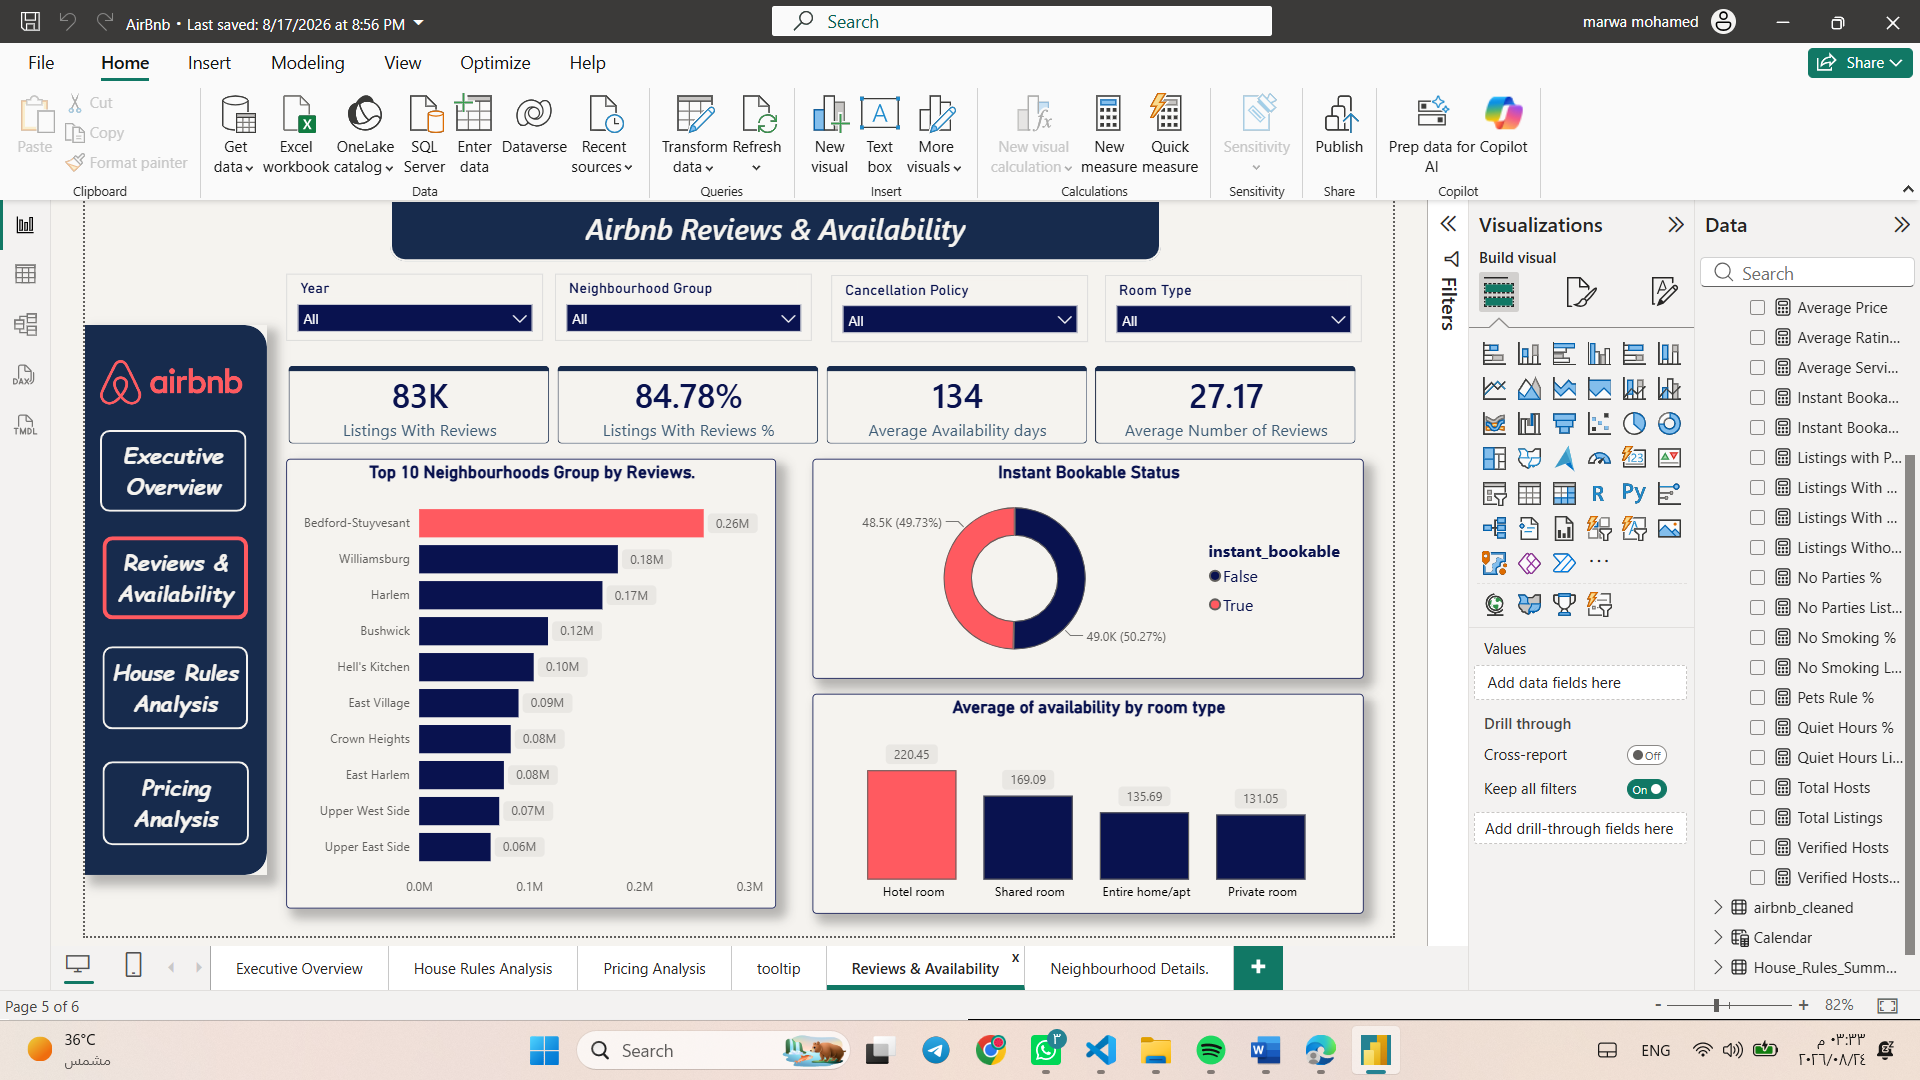

What the dashboard file says about the page in this screenshot:
{"tool":"powerbi","page":{"name":"Reviews & Availability","canvas":[1280,720],"ordinal":4},"visuals":[{"type":"slicer","fields":{"Values":["airbnb_cleaned.room type"]},"box":[998,72.6,251.6,65.8],"z":0,"group":"g2"},{"type":"group","id":"g1","title":"Group 1","box":[0,122.5,178,538],"z":0},{"type":"slicer","fields":{"Values":["airbnb_cleaned.cancellation_policy"]},"box":[730.5,72.6,251.6,65.8],"z":1000,"group":"g2"},{"type":"actionButton","box":[14.9,225.5,143.3,80],"z":1000},{"type":"slicer","fields":{"Values":["airbnb_cleaned.neighbourhood group"]},"box":[460,71.9,251.6,65.8],"z":2000,"group":"g2"},{"type":"actionButton","box":[17.5,548.8,143.3,82.2],"z":2000},{"type":"slicer","fields":{"Values":["Calendar.Year"]},"box":[197.1,71.9,251.6,65.8],"z":3000,"group":"g2"},{"type":"actionButton","box":[17.5,328.8,142.5,81.2],"z":3000},{"type":"actionButton","box":[17.5,436.2,142.5,81.2],"z":4000},{"type":"actionButton","box":[298.6,0,754.3,60],"z":5000},{"type":"shape","box":[0,122.5,178,538],"z":6000,"group":"g1"},{"type":"cardVisual","fields":{"Data":["Measures_table.Listings With Reviews","Measures_table.Listings With Reviews %","Measures_table.Average Availability","Measures_table.Average Number of Reviews"]},"box":[187.5,150,1071.2,100],"z":6000},{"type":"image","box":[14.4,147.5,139.6,63.2],"z":7000,"group":"g1"},{"type":"clusteredBarChart","title":"Top 10 Neighbourhoods Group by Reviews.","fields":{"Category":["airbnb_cleaned.neighbourhood"],"Y":["Sum(airbnb_cleaned.number of reviews)"]},"box":[196.7,252.9,479.3,440.3],"z":7000},{"type":"donutChart","title":"Instant Bookable Status","fields":{"Category":["airbnb_cleaned.instant_bookable"],"Y":["Measures_table.Total Listings"]},"box":[712,252.9,539.5,214.8],"z":8000},{"type":"clusteredColumnChart","title":"Average of availability by room type","fields":{"Category":["airbnb_cleaned.room type"],"Y":["Avg(airbnb_cleaned.availability 365)"]},"box":[712,482.5,539.5,214.8],"z":9000},{"type":"group","id":"g2","title":"Group 2","box":[197.1,71.9,1052.5,66.2],"z":10000}]}

Visuals, with their boxes on the page's 1280x720 design canvas (x1, y1, x2, y2). These are canvas units, not pixel positions in the 1920x1080 screenshot, which may show the page scaled, cropped or inside an application window:
slicer - airbnb_cleaned.room type: <box>998,73,1250,138</box>
"Group 1" group: <box>0,122,178,660</box>
slicer - airbnb_cleaned.cancellation_policy: <box>730,73,982,138</box>
actionButton: <box>15,226,158,306</box>
slicer - airbnb_cleaned.neighbourhood group: <box>460,72,712,138</box>
actionButton: <box>18,549,161,631</box>
slicer - Calendar.Year: <box>197,72,449,138</box>
actionButton: <box>18,329,160,410</box>
actionButton: <box>18,436,160,517</box>
actionButton: <box>299,0,1053,60</box>
shape: <box>0,122,178,660</box>
cardVisual - Measures_table.Listings With Reviews x Measures_table.Listings With Reviews %: <box>188,150,1259,250</box>
image: <box>14,148,154,211</box>
"Top 10 Neighbourhoods Group by Reviews." clusteredBarChart: <box>197,253,676,693</box>
"Instant Bookable Status" donutChart: <box>712,253,1252,468</box>
"Average of availability by room type" clusteredColumnChart: <box>712,482,1252,697</box>
"Group 2" group: <box>197,72,1250,138</box>
